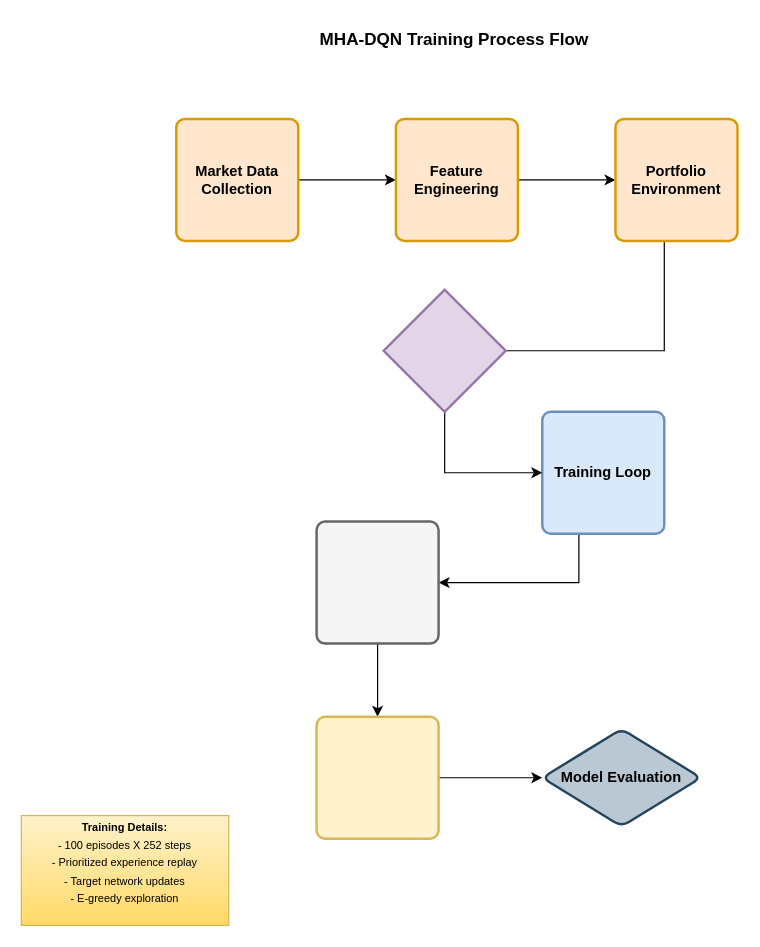
The diagram is 760 pixels wide and 947 high, and some of its shapes have lost their labels. The box of each missing label's shape, as (x1, y1, x2, y2) in pixels:
Experience Replay Buffer: (315, 520, 439, 644)
MHA-DQN Initialization: (382, 288, 506, 412)
Model Update: (315, 715, 439, 839)
